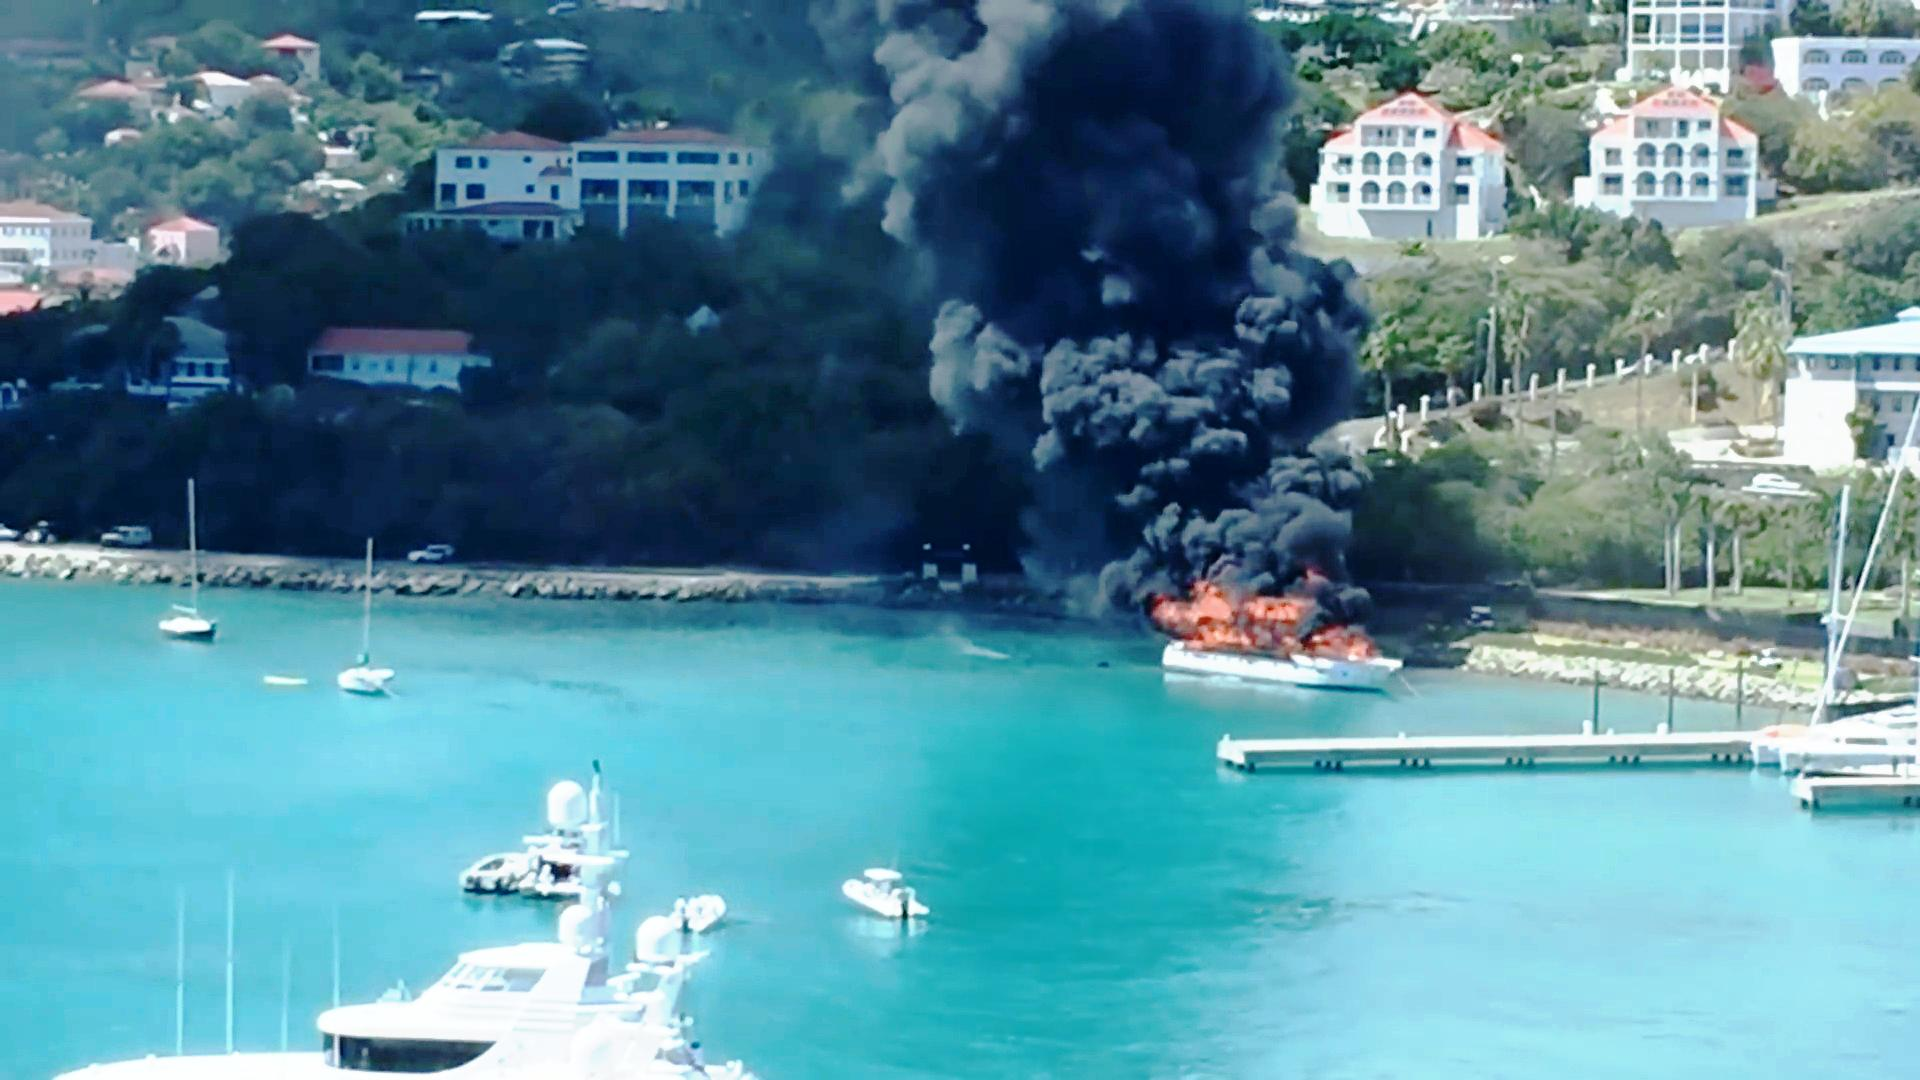smoke: (886, 280, 1419, 511), (911, 18, 1271, 289)
